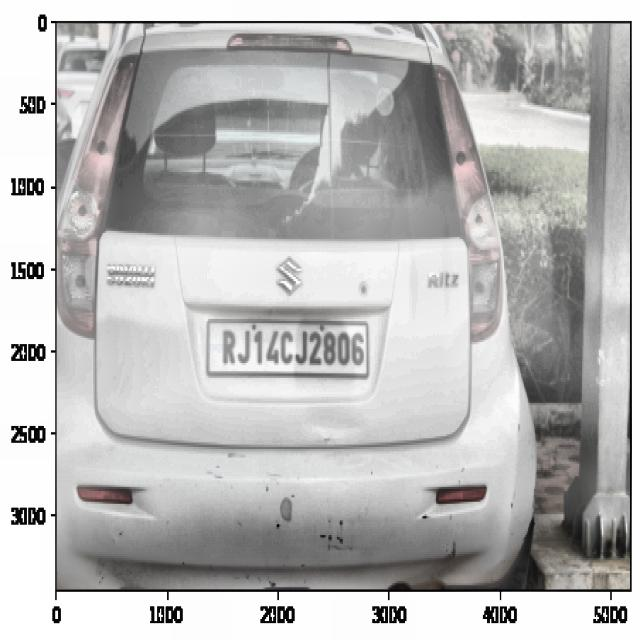license_plate: (216, 317, 369, 378)
